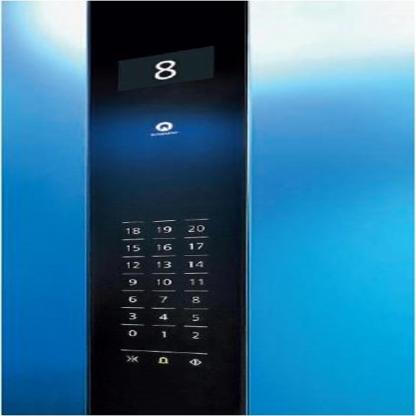0: (117, 322, 147, 342)
1: (148, 324, 179, 344)
10: (147, 272, 178, 292)
11: (179, 272, 210, 292)
12: (117, 255, 147, 275)
13: (148, 254, 179, 274)
14: (179, 254, 210, 274)
15: (117, 237, 147, 258)
16: (147, 236, 178, 258)
17: (179, 236, 210, 257)
18: (118, 220, 146, 241)
19: (148, 219, 177, 239)
2: (179, 324, 210, 344)
20: (178, 218, 209, 238)
3: (117, 306, 147, 326)
4: (148, 307, 179, 327)
5: (179, 308, 210, 328)
6: (117, 288, 147, 308)
7: (148, 289, 179, 309)
8: (179, 290, 210, 310)
9: (117, 272, 147, 292)
alarm: (147, 350, 178, 370)
close: (117, 348, 147, 368)
led: (112, 44, 216, 92)
open: (178, 351, 208, 371)
